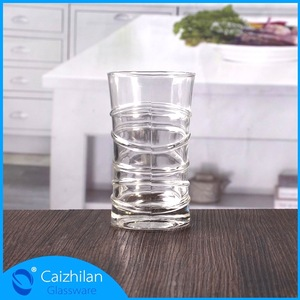glass of water: (117, 79, 186, 233)
